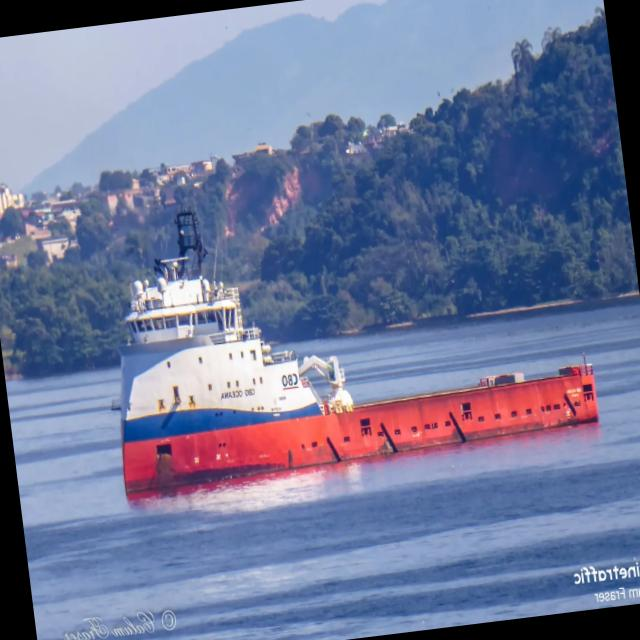Offshore: (114, 210, 598, 499)
